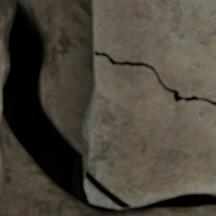brick: (82, 56, 215, 205), (91, 0, 215, 100), (0, 0, 10, 110), (0, 126, 3, 190)
crack: (0, 0, 215, 215), (93, 50, 215, 106)
